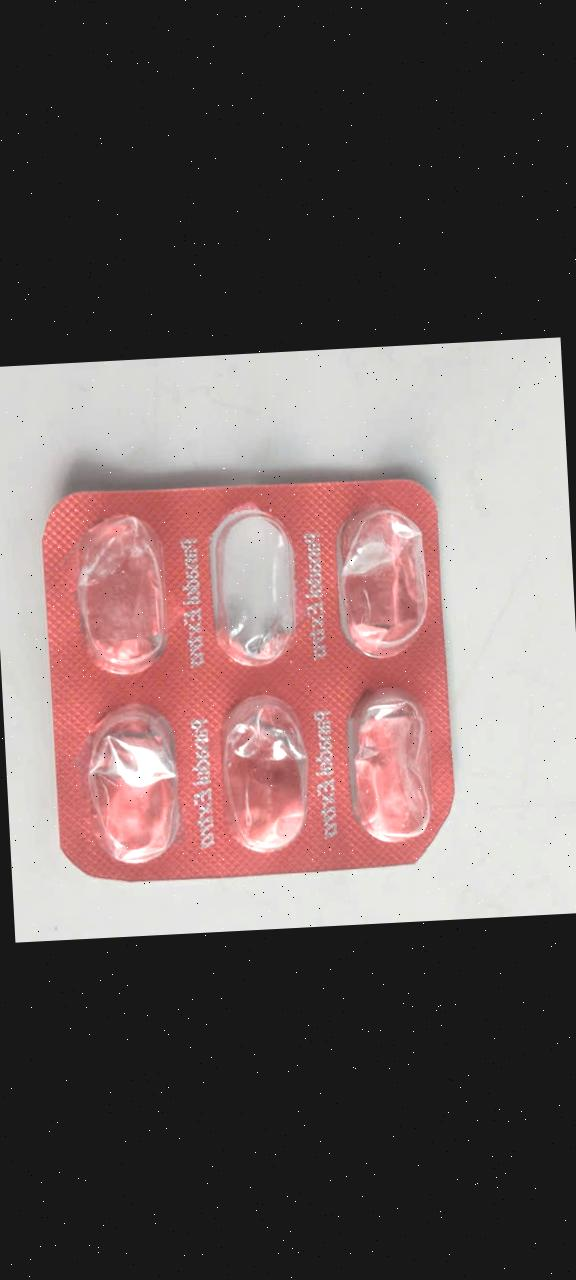Empty: (339, 677, 441, 852), (332, 493, 434, 668), (216, 685, 318, 860), (204, 496, 306, 671), (85, 696, 187, 871), (72, 506, 174, 681)
